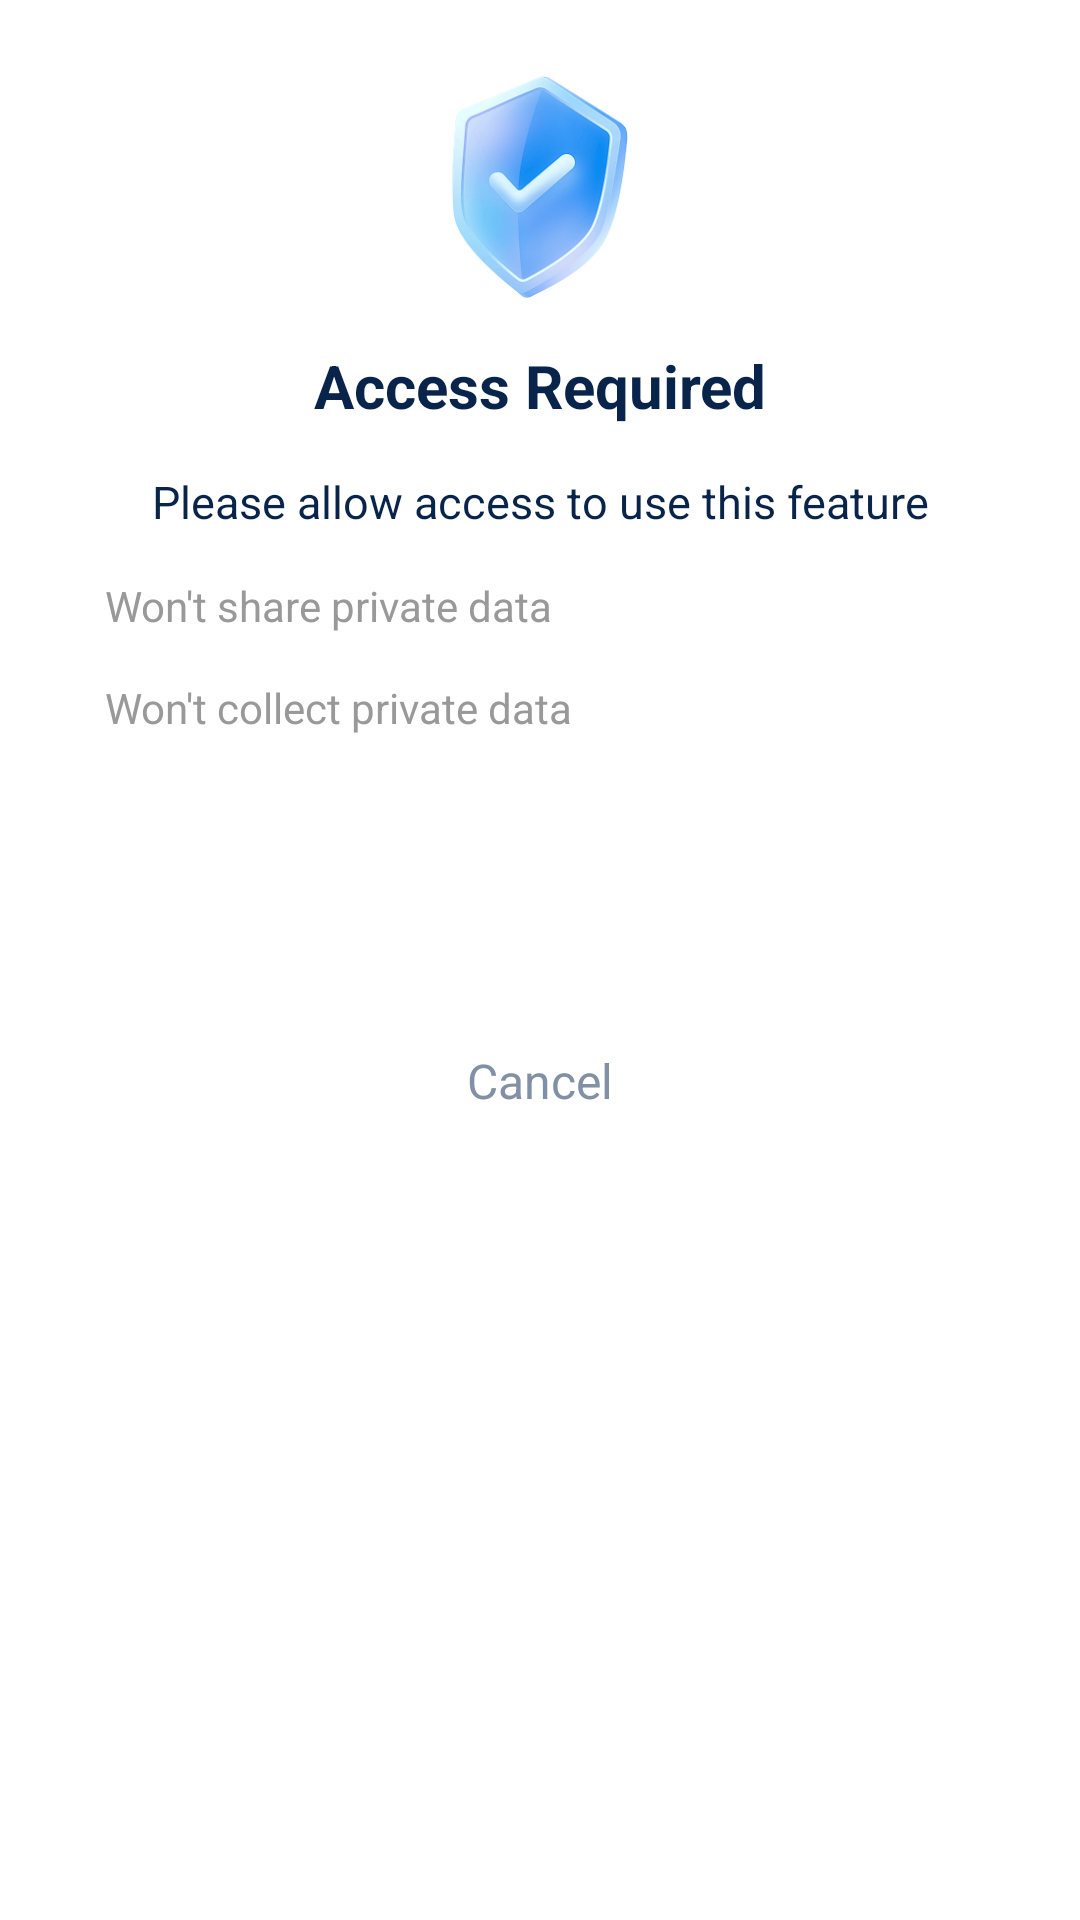

Icon bounding boxes for this 1080w x 1920h phone screenshot, format (x1=x1, y1=y1, x2=x2, y2=y2):
dunpai: (x1=452, y1=76, x2=628, y2=298)
